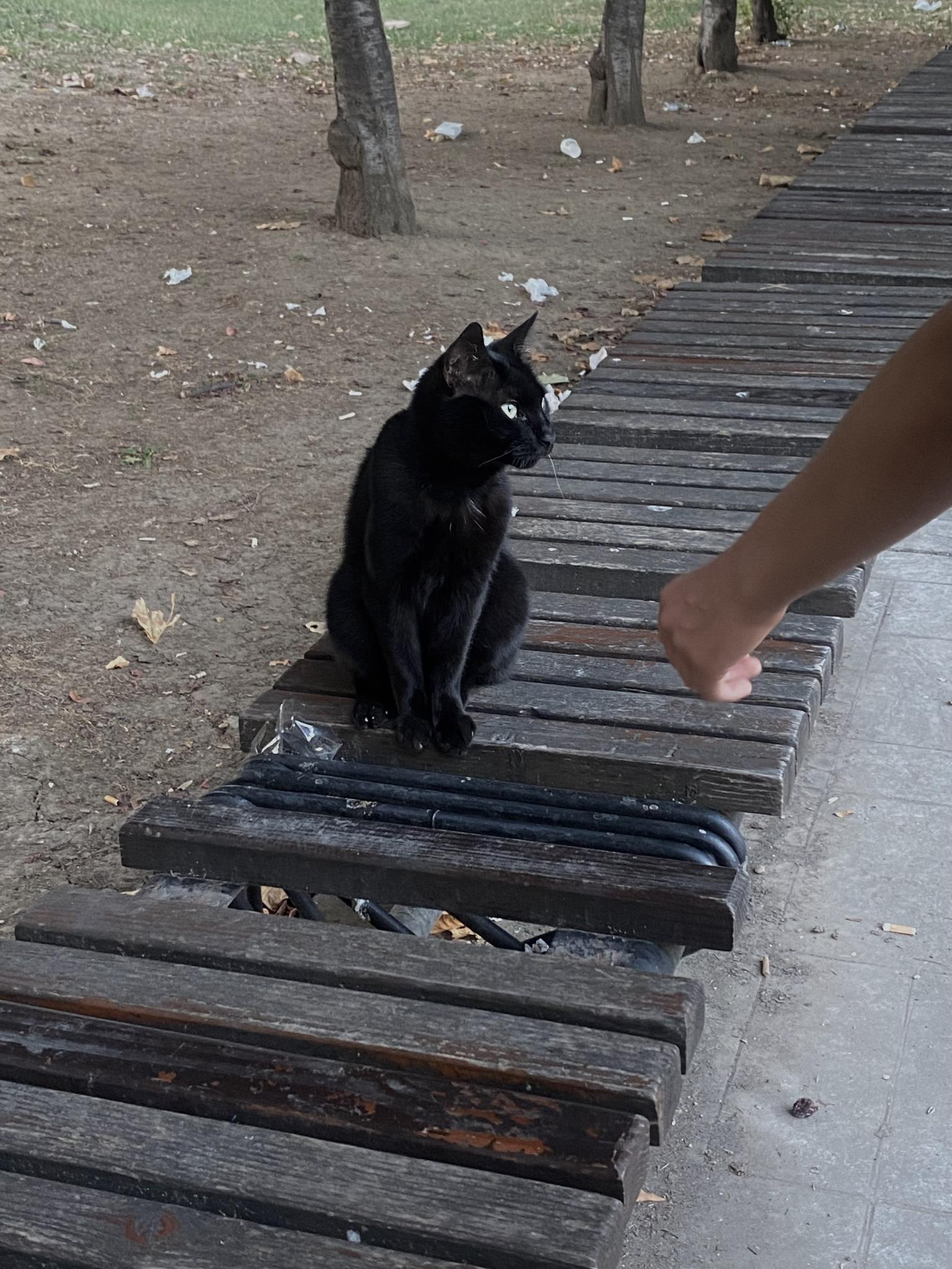macka: (326, 309, 557, 762)
